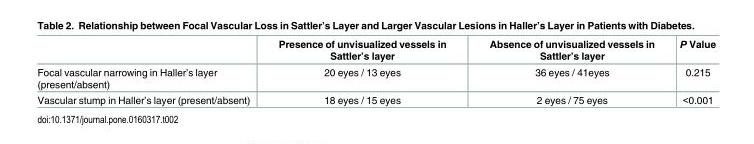table: (36, 37, 714, 105)
table column: (36, 37, 263, 105), (263, 37, 467, 105), (467, 37, 666, 105), (666, 37, 714, 105)
table column header: (36, 37, 714, 63)
table row: (36, 63, 714, 91), (36, 37, 714, 63), (36, 91, 714, 105)
